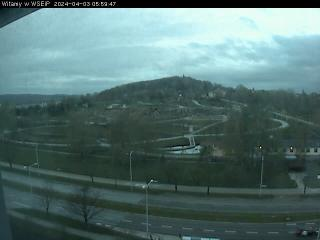car: (295, 225, 320, 237)
